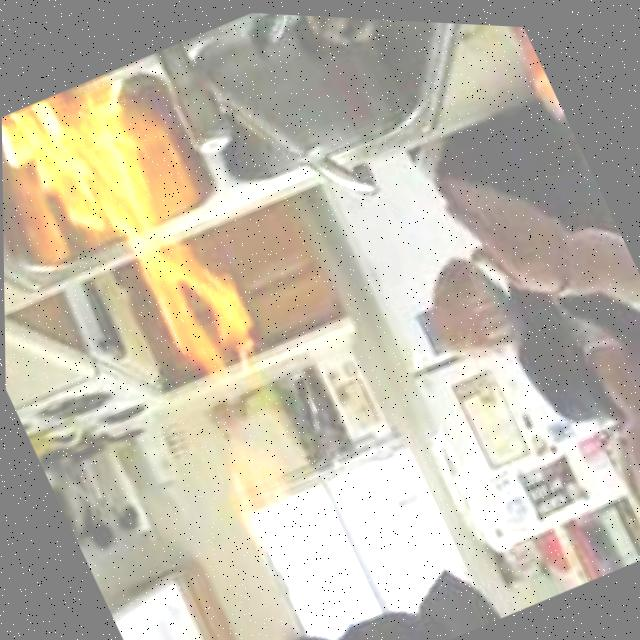Fire: (1, 56, 269, 423)
